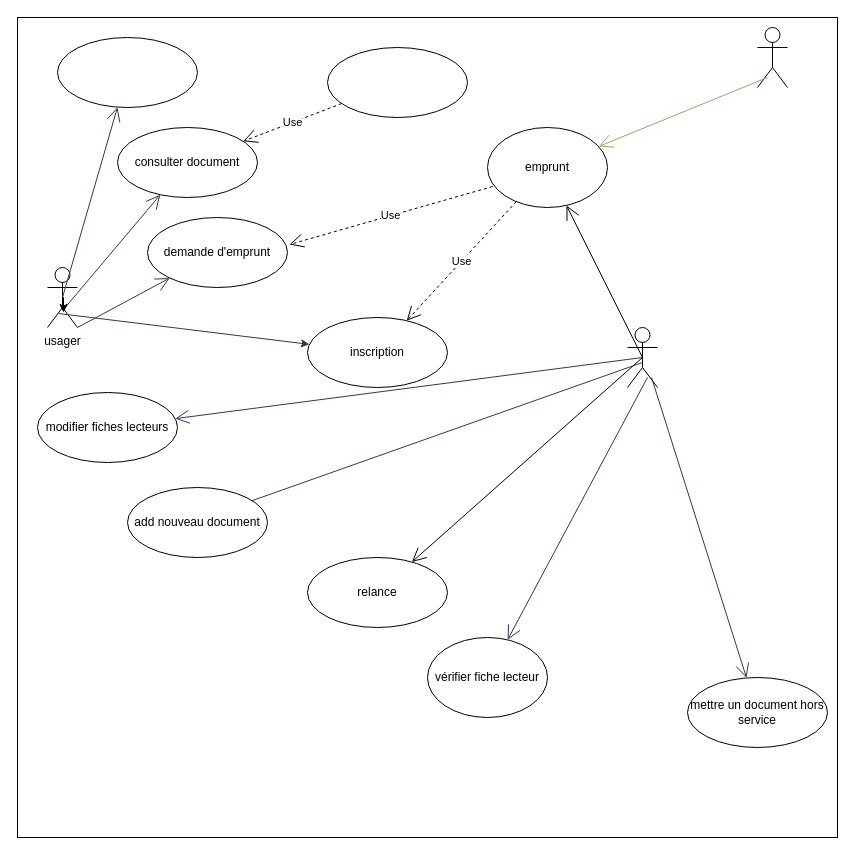
The diagram is 855 pixels wide and 855 high, and some of its shapes have lost their labels. The shapes that lost their labels are listed below. From the top down, each one's centre as x and y in pixels, then its label:
(x=127, y=72): consulter microfilm
(x=772, y=57): benevole
(x=397, y=82): vérifier disponibilité
(x=642, y=357): employé
